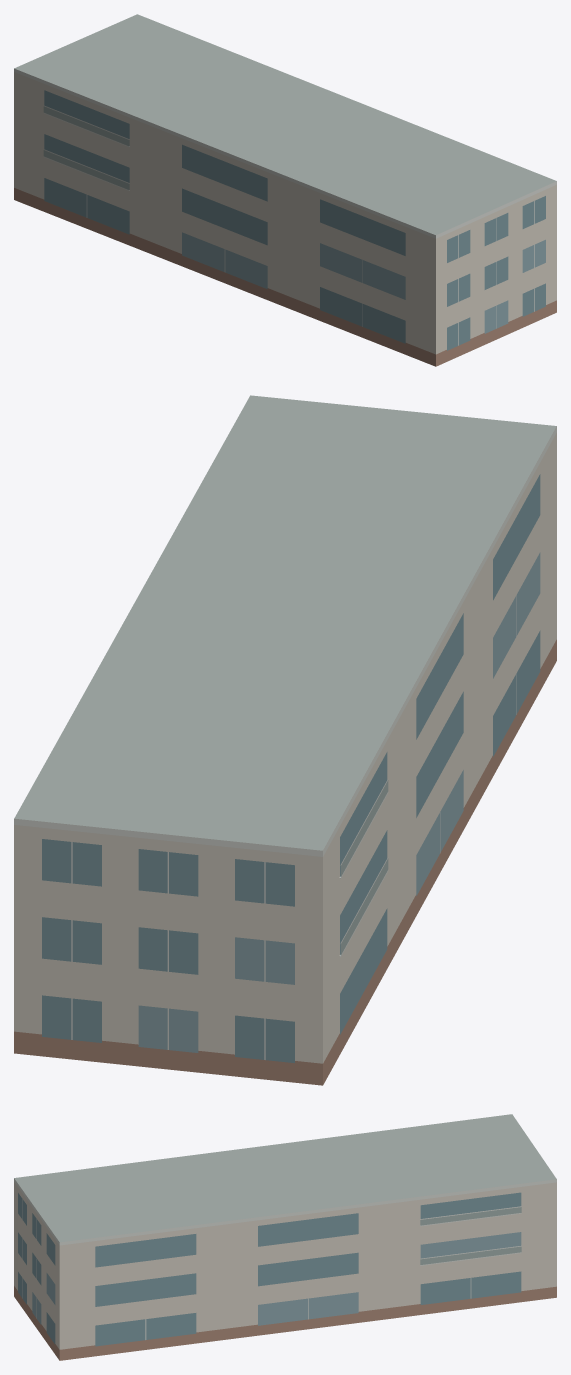
Rendered from survey-upis-32604524.glb.
The picture shows the model from 3 angles, top to bottom: view 1: azimuth 30°, elevation 25°; view 2: azimuth 150°, elevation 25°; view 3: azimuth 270°, elevation 25°; orthographic projection. The views are drawn at different scales.
Visible parts, largest first — view 1: survey-upis-32604524.tmp; view 2: survey-upis-32604524.tmp; view 3: survey-upis-32604524.tmp.
Boxes of the visible parts, box(x1,y1,x2,y2) form: survey-upis-32604524.tmp: box(14, 14, 556, 366); survey-upis-32604524.tmp: box(14, 395, 556, 1085); survey-upis-32604524.tmp: box(14, 1114, 556, 1360).
Bounding box in the file's own units: 21.26 × 9.15 × 38.01.
